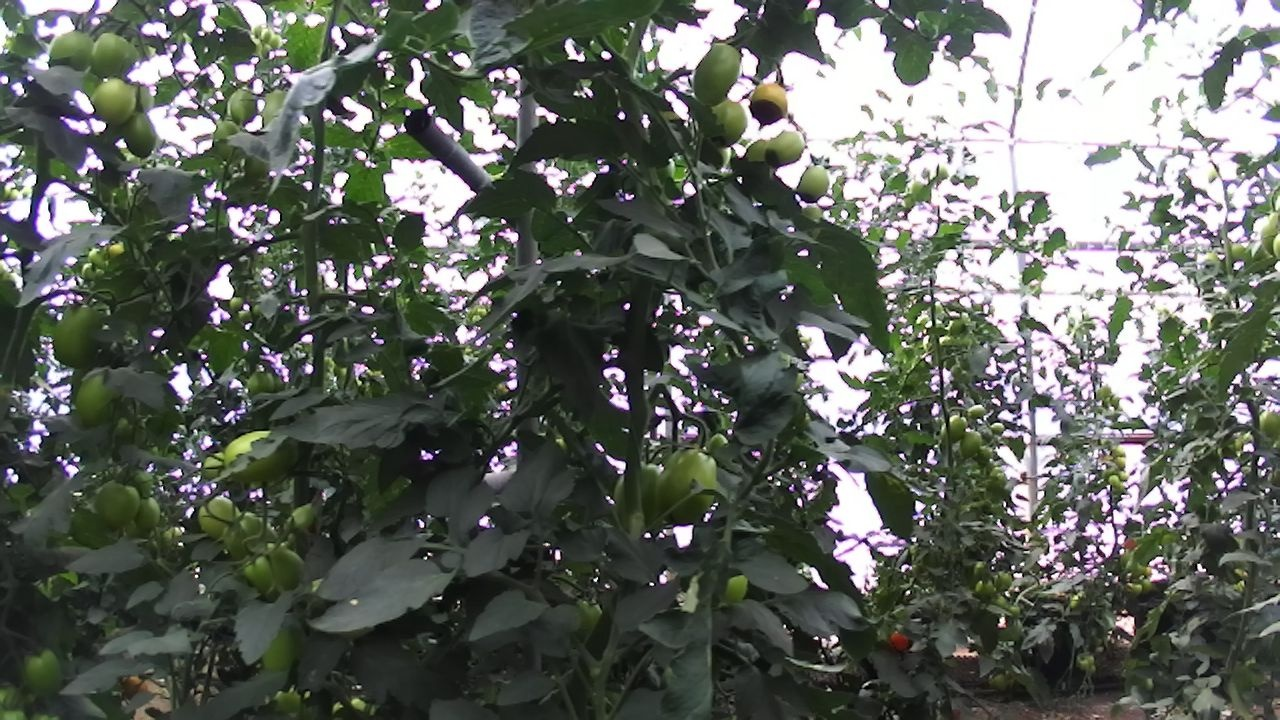tomato: (650, 428, 728, 536), (206, 417, 312, 494), (41, 288, 122, 381), (604, 442, 674, 547), (65, 358, 136, 441), (686, 28, 750, 119), (213, 500, 288, 571), (10, 634, 80, 709), (248, 610, 308, 692), (247, 534, 313, 607), (85, 468, 152, 539), (63, 493, 133, 557), (41, 18, 106, 85), (84, 68, 145, 138), (697, 88, 760, 155), (753, 117, 817, 182), (187, 486, 254, 548), (743, 70, 798, 138), (77, 25, 135, 88), (114, 102, 168, 169), (790, 151, 840, 217), (218, 79, 270, 135), (127, 487, 170, 542), (207, 112, 244, 164), (935, 405, 974, 450), (241, 365, 282, 407), (1250, 395, 1280, 451), (1220, 233, 1259, 272), (117, 666, 153, 707), (882, 624, 920, 661), (955, 424, 985, 464), (984, 663, 1018, 697), (81, 242, 112, 272), (971, 574, 998, 604), (962, 398, 991, 425), (102, 237, 130, 264), (990, 566, 1015, 596), (1121, 577, 1148, 604), (76, 258, 102, 284), (224, 290, 249, 317), (974, 439, 996, 468), (970, 556, 994, 582), (985, 416, 1009, 440), (1074, 649, 1097, 673), (1136, 575, 1156, 599), (234, 305, 256, 326), (1111, 452, 1130, 472), (266, 31, 283, 52), (1109, 444, 1129, 461), (257, 25, 273, 46), (1105, 472, 1123, 490), (1115, 466, 1132, 485), (251, 22, 266, 41)
